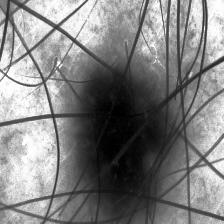Benign Marking or Mole: (75, 72, 166, 208)
